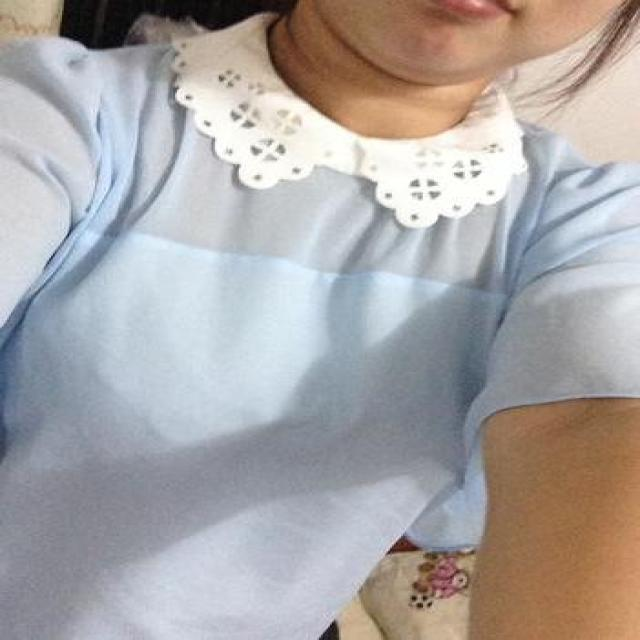short sleeve top: (2, 18, 638, 639)
